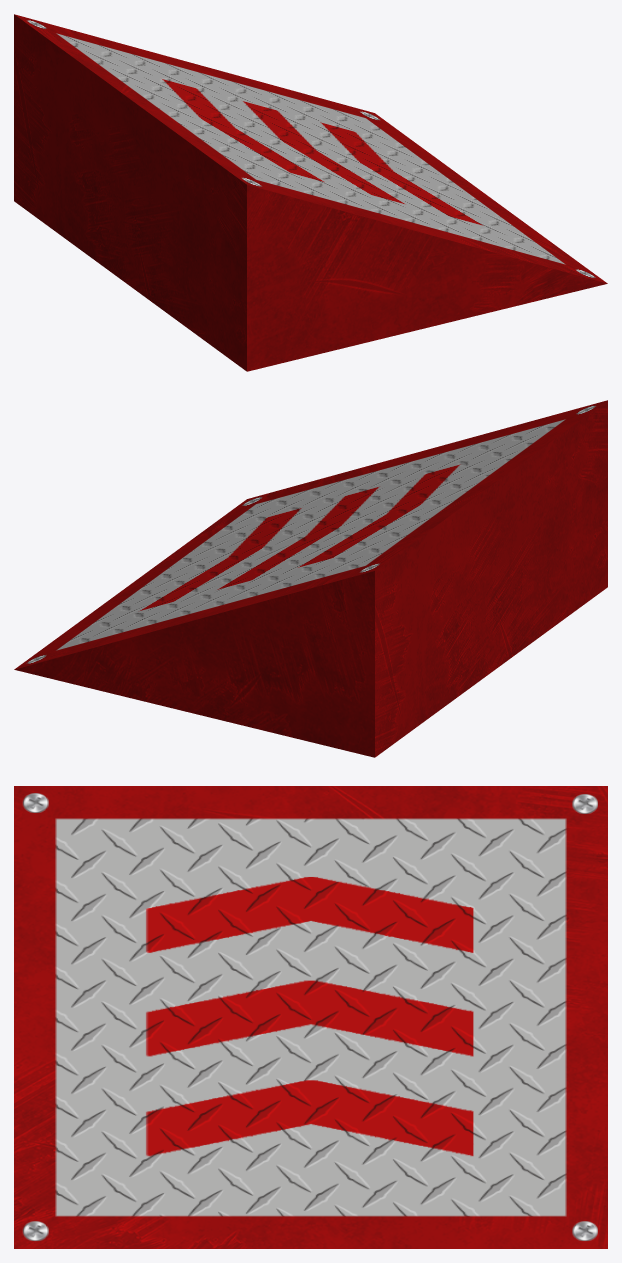
Rendered from BoostRampBesi.fbx.
3 views of the same model, one above another, from view 1: azimuth 30°, elevation 25°; view 2: azimuth 150°, elevation 25°; view 3: azimuth 270°, elevation 25° (orthographic). The views are drawn at different scales.
Visible parts, largest first — view 1: BoostRamp.001; view 2: BoostRamp.001; view 3: BoostRamp.001.
Part boxes in pixels (bbox=[...]): BoostRamp.001: bbox=[14, 14, 607, 371]; BoostRamp.001: bbox=[14, 400, 607, 757]; BoostRamp.001: bbox=[14, 786, 607, 1248].
Bounding box in the file's own units: 1002 × 1121 × 496.
Materials: 1 (1 with a texture image).
